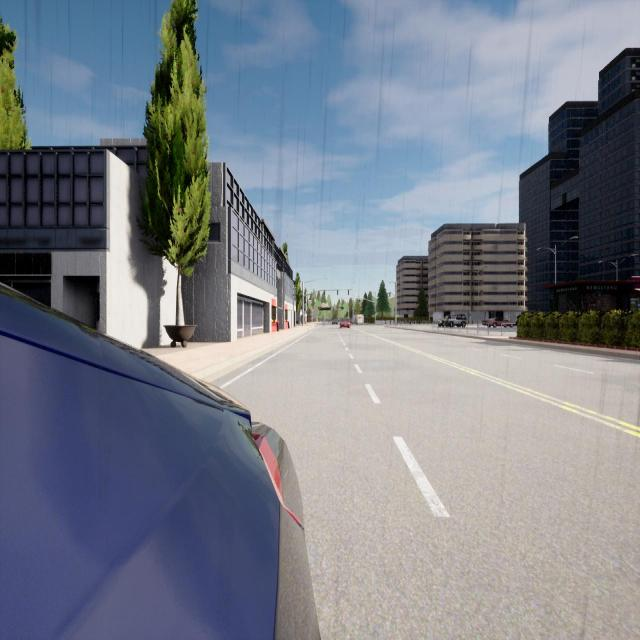Vehicle: (0, 284, 319, 638), (482, 318, 515, 328), (448, 314, 467, 328), (352, 314, 364, 326), (438, 316, 450, 328), (340, 317, 350, 329), (332, 318, 338, 325)
traffic_light: (374, 309, 376, 313), (394, 306, 395, 312), (348, 289, 349, 295), (324, 290, 325, 295), (337, 290, 338, 295), (390, 292, 390, 296)
